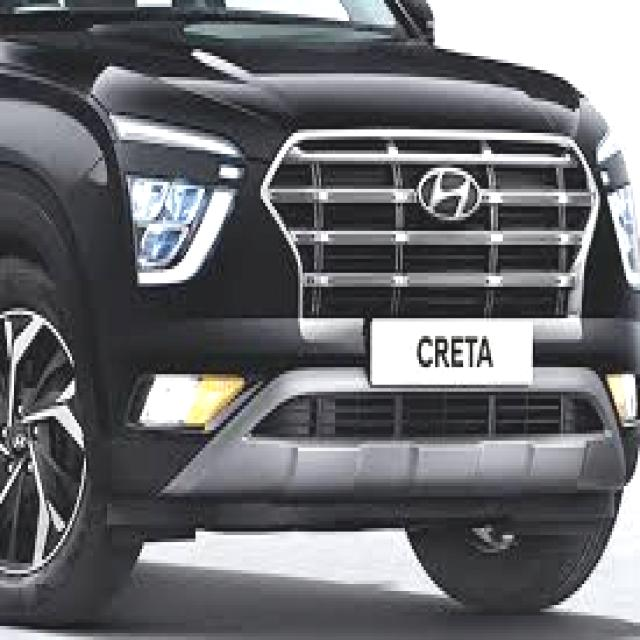SUV: (0, 0, 637, 595)
